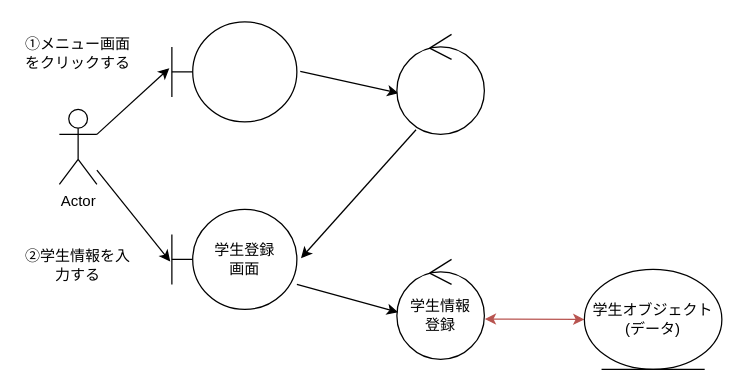
The diagram is 744 pixels wide and 391 high, and some of its shapes have lost their labels. Each missing label, with the box of its shape:
メニュー 画面: (171, 21, 297, 122)
表示(する): (396, 33, 484, 134)
